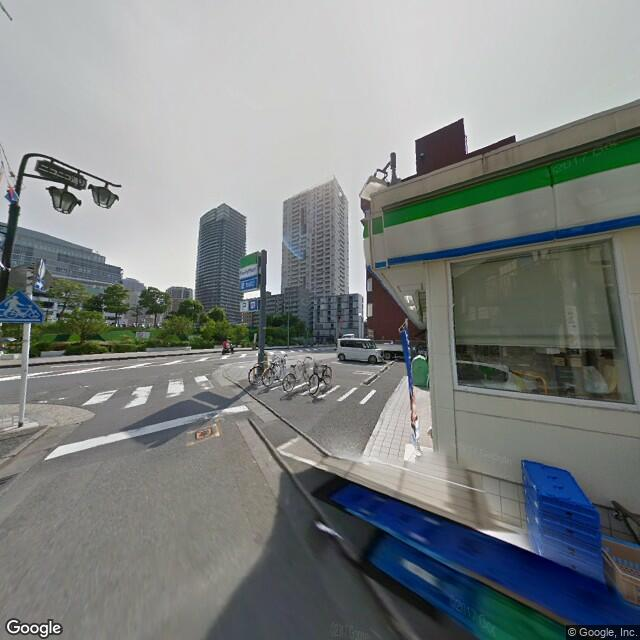family_mart: (374, 128, 637, 274), (239, 250, 261, 288)
